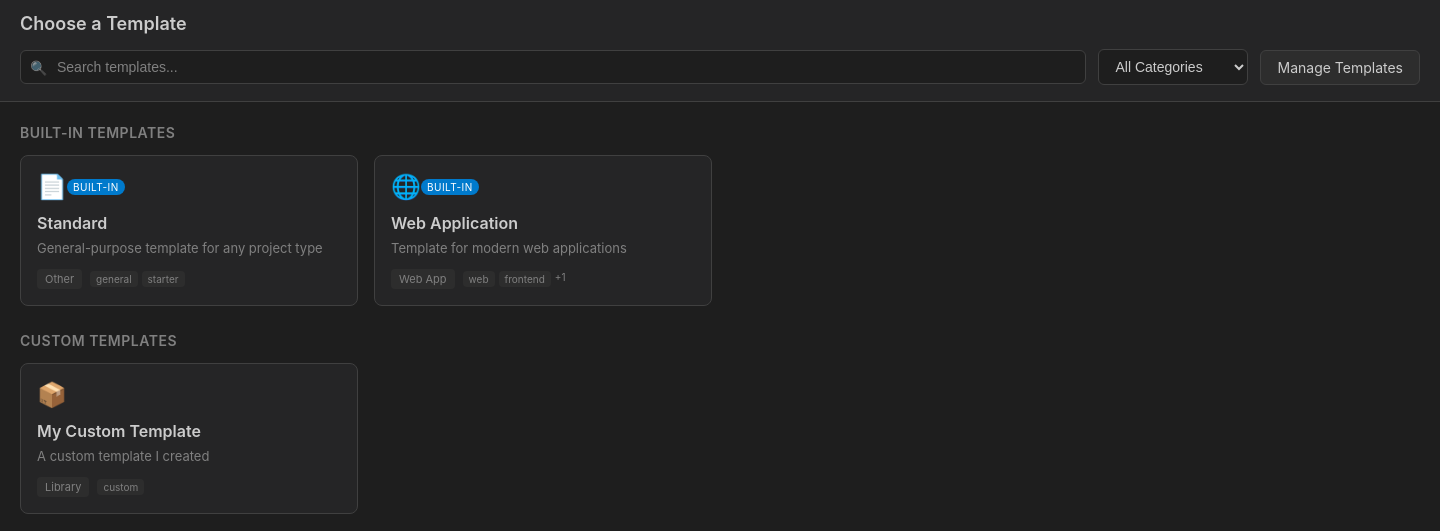
Test: TemplateSelector › filters templates by category
Select "Web App" in the dropdown at {"x": 1174, "y": 67}, box x1=1098 y1=49 x2=1248 y2=85
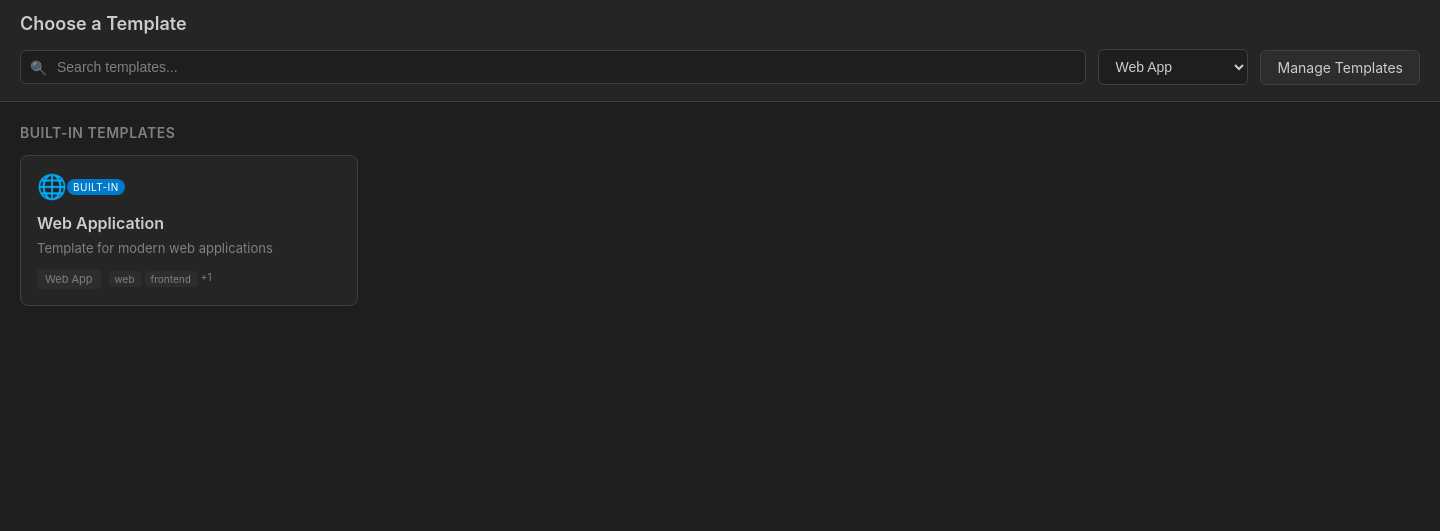
Expected: the heading "Web Application" is shown, x1=37 y1=213 x2=164 y2=233
Now the button "Standard" is gone
Now the button "My Custom Template" is gone
